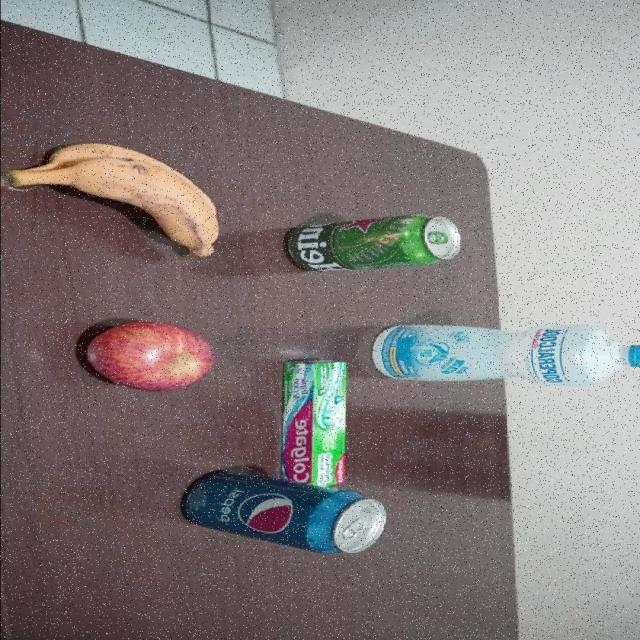AlcoholBottle: (370, 318, 640, 388)
Apple: (83, 320, 213, 392)
Banana: (0, 139, 219, 260)
BeerCan: (280, 213, 462, 275)
SodaCan: (178, 471, 388, 555)
Toothpaste: (280, 359, 349, 486)
